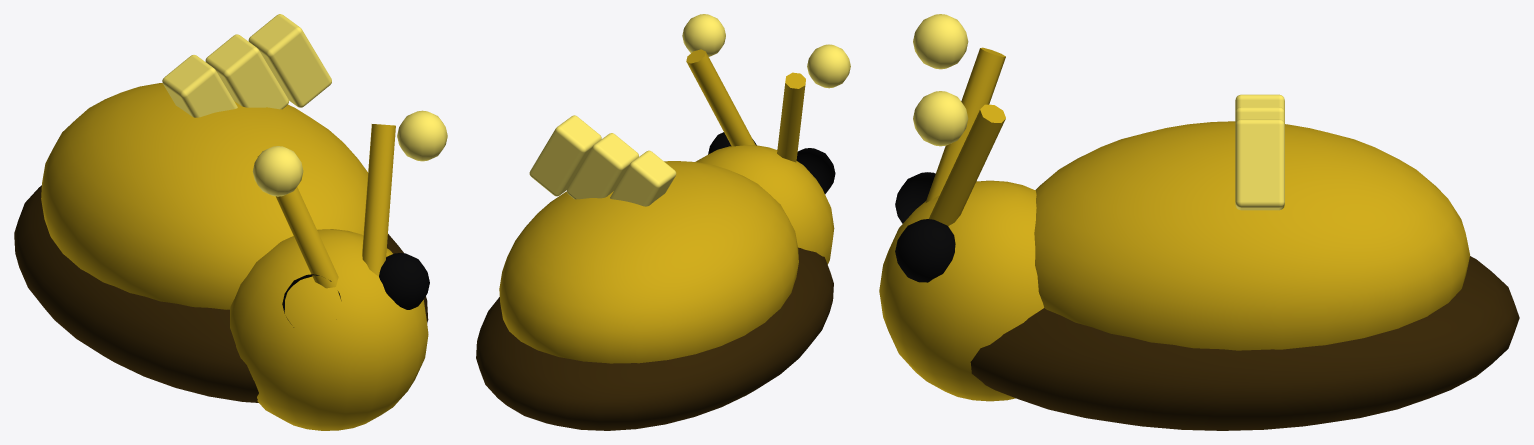
Rendered from centella.obj.
3 renders of one model, left to right at view 1: azimuth 30°, elevation 25°; view 2: azimuth 150°, elevation 25°; view 3: azimuth 270°, elevation 25°, orthographic. The views are drawn at different scales.
Bounding box in the file's own units: 0.424 × 0.4007 × 0.6858.
